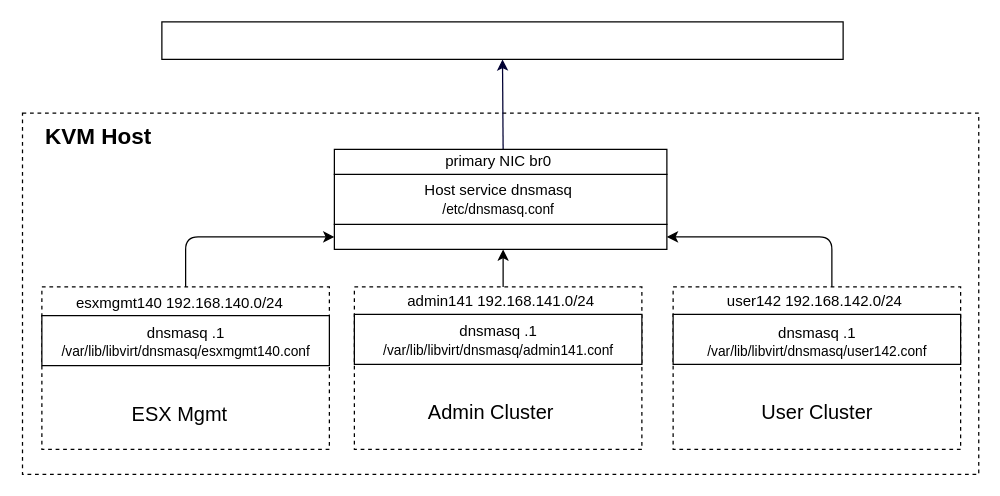
This 1000x496 diagram has some shape labels left out. Each missing label, with the centre of its shape:
"local loopback lo" goes at pixel 500 236.
"Upstream Router" goes at pixel 502 40.
